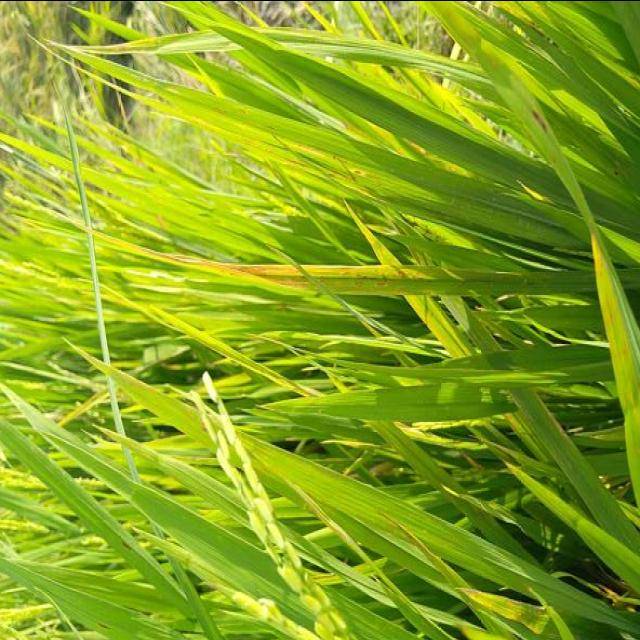Leaf Streak: (95, 231, 538, 297), (589, 215, 640, 518), (525, 91, 565, 180)
